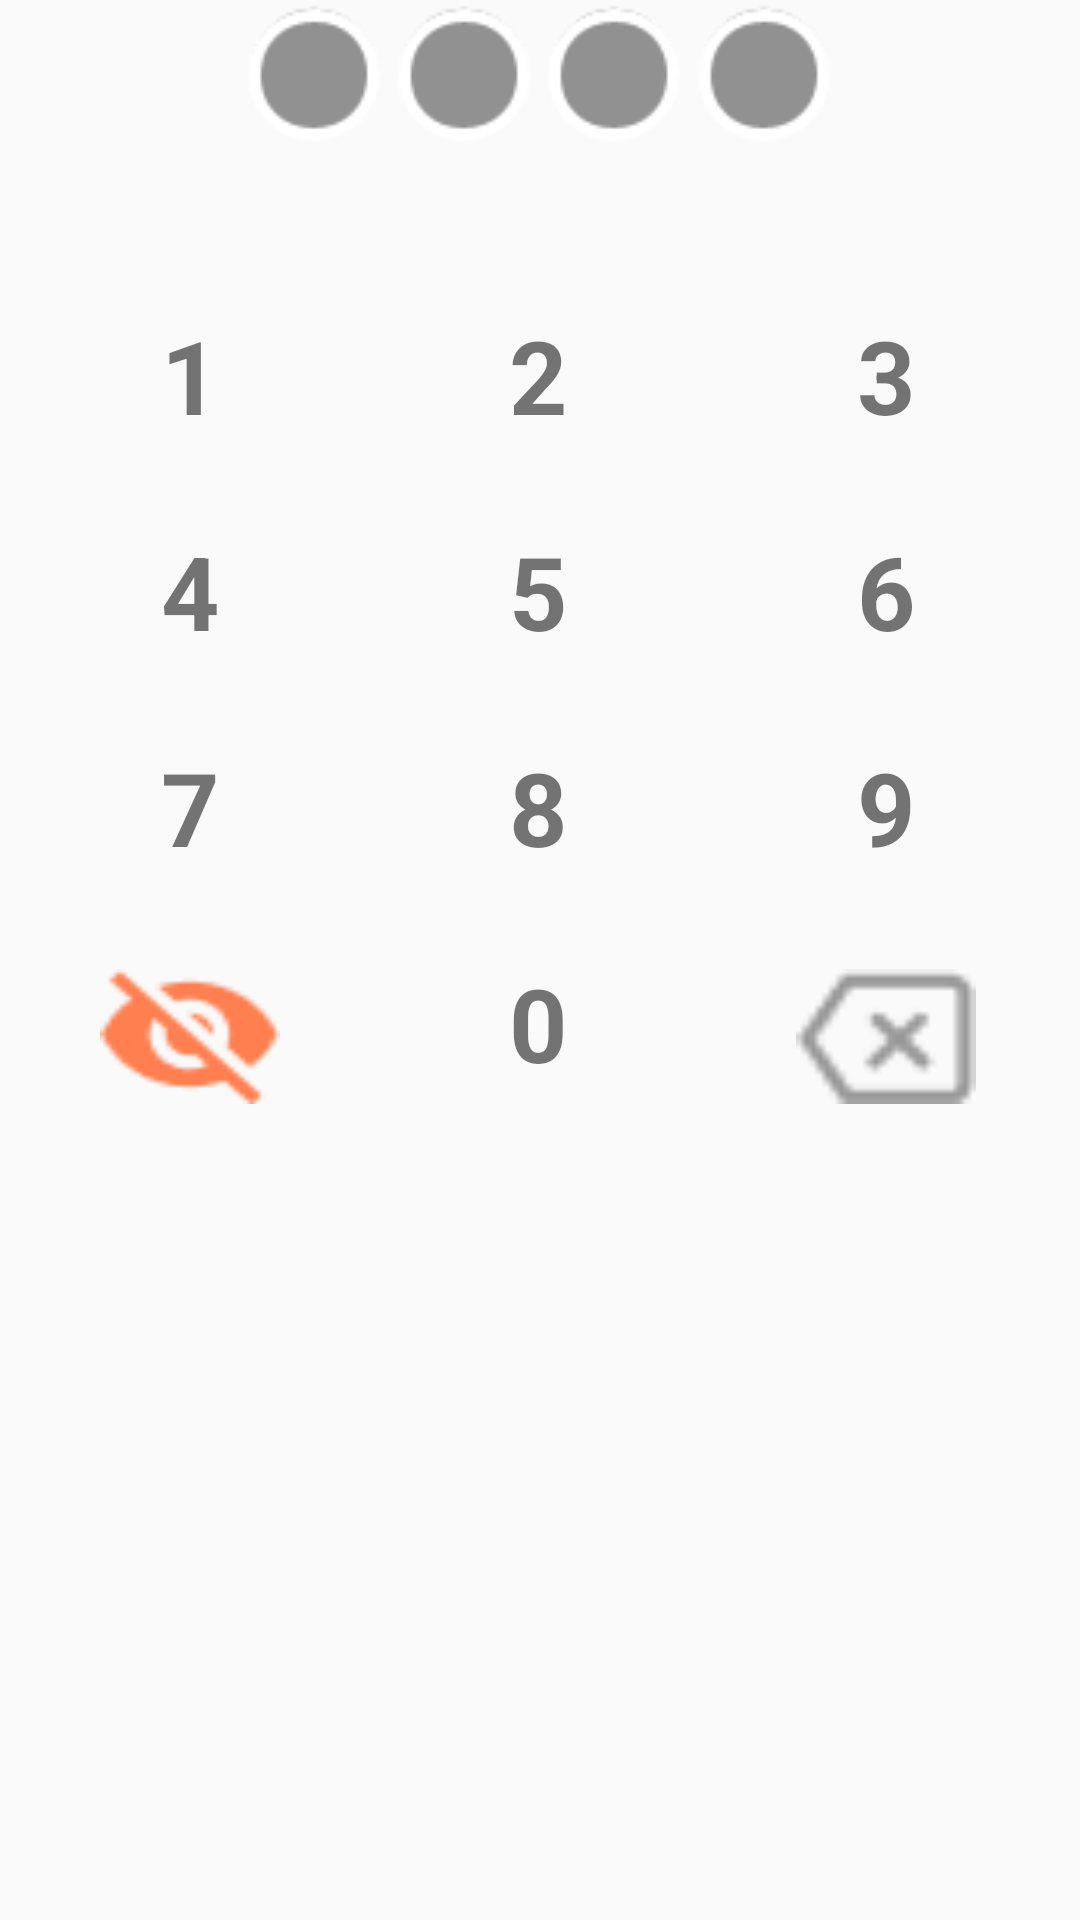

Screen size 1080×1920. Icon name, then its box in pixels as [left=x1, top=y1, right=x2, bottom=y2]:
backspace: [left=796, top=973, right=976, bottom=1104]
